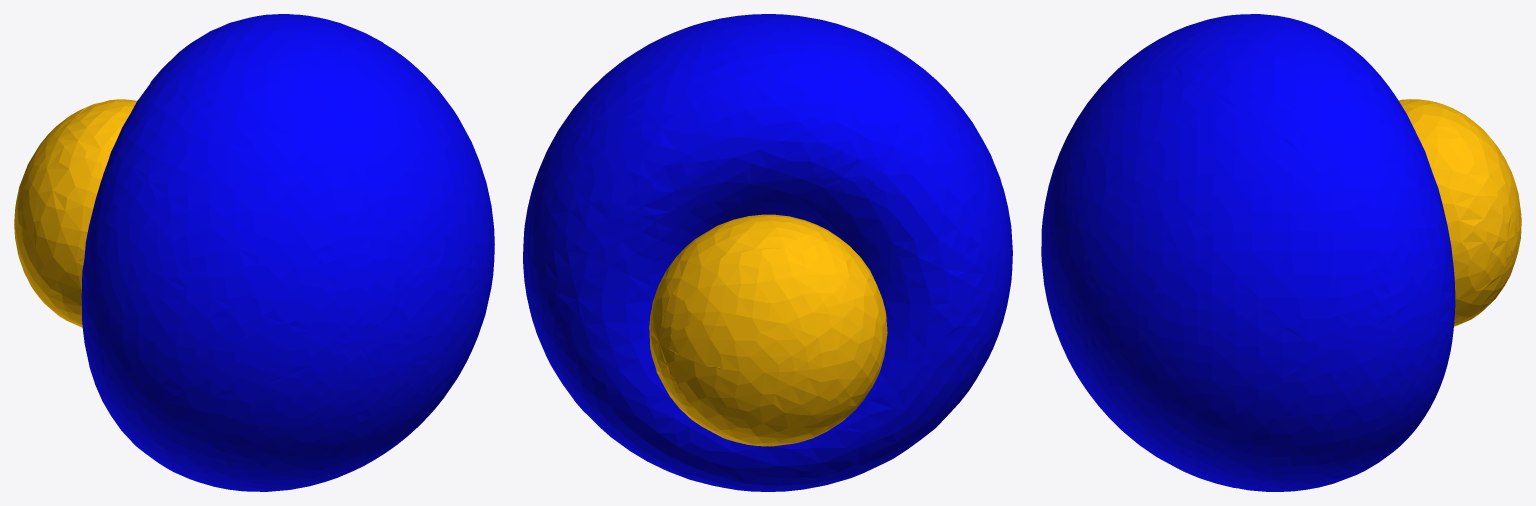
3 views of the same model, side by side, from view 1: azimuth 30°, elevation 25°; view 2: azimuth 150°, elevation 25°; view 3: azimuth 270°, elevation 25° (orthographic).
Bounding box in the file's own units: 11.56 × 11.98 × 11.96.
